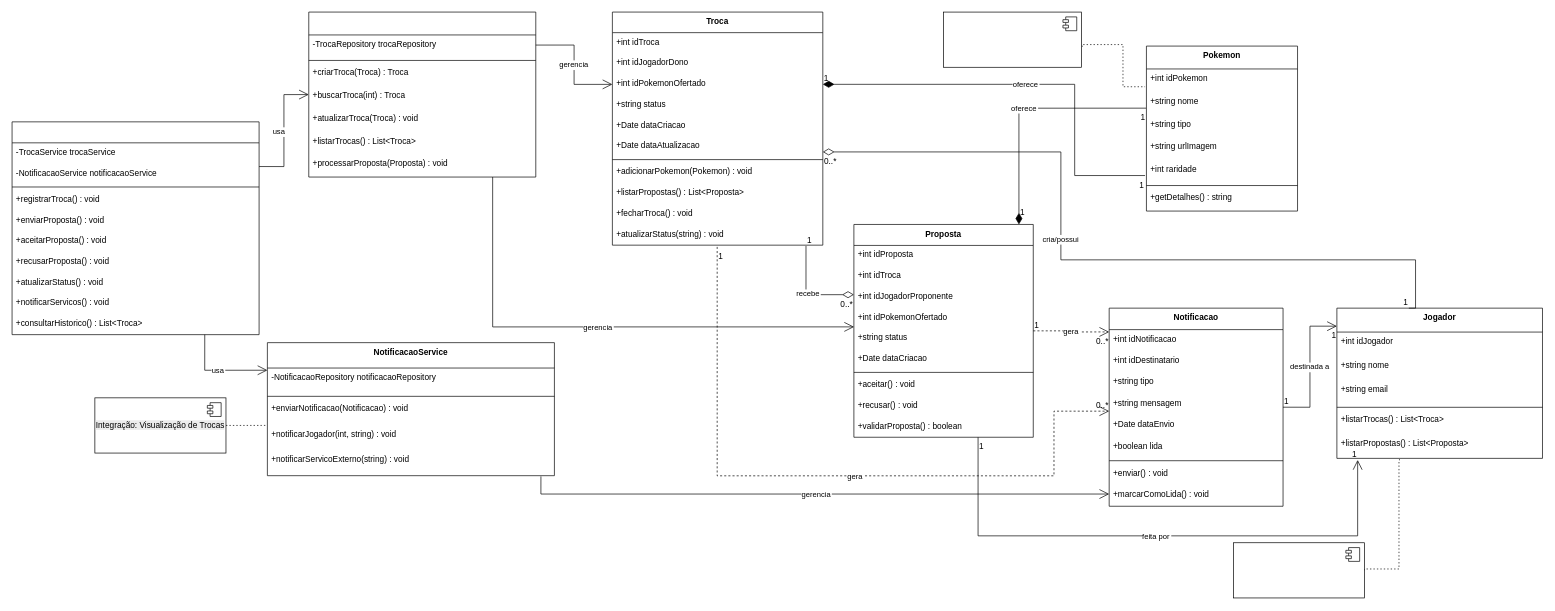
Image size: 1555x611. Some labels were removed from this diagram. Here are the shapes that lost their labels. From the top down, the box of each, then its label:
(943, 11, 1082, 67): Integração: Distribuição de Cartas
(308, 11, 536, 177): TrocaService
(11, 121, 259, 335): TrocaController
(1233, 542, 1364, 598): Integração: Serviço de Jogadores
